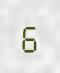six: (19, 19, 38, 53)
